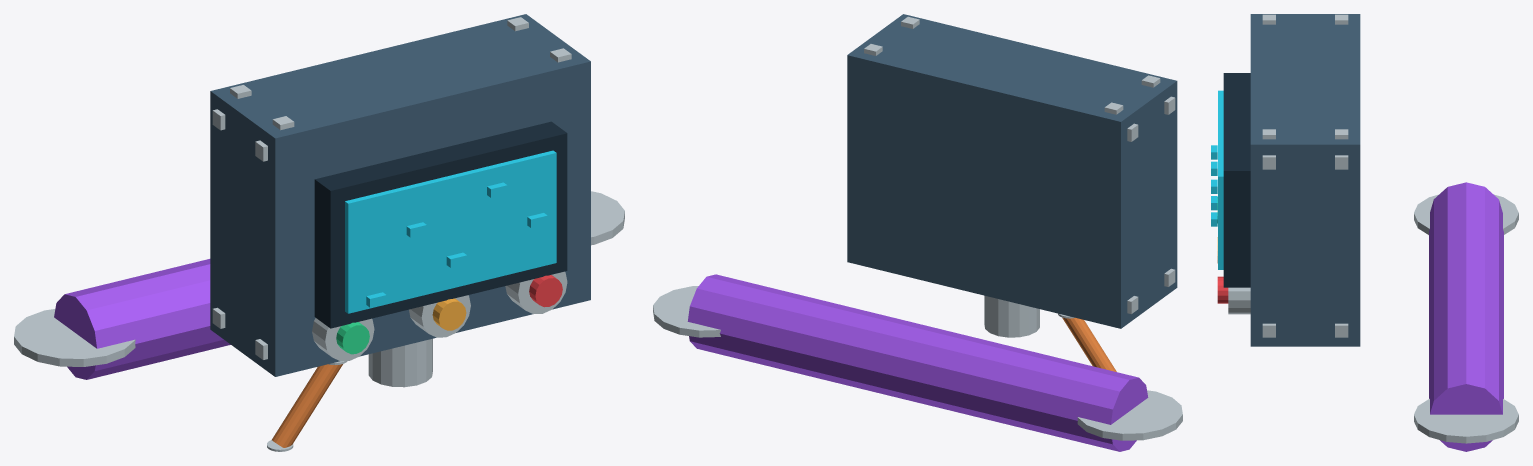
Rendered from 36_L77_BarrierFluidFlowSensor.fbx.
3 renders of one model, left to right at view 1: azimuth 30°, elevation 25°; view 2: azimuth 150°, elevation 25°; view 3: azimuth 270°, elevation 25°, orthographic. The views are drawn at different scales.
Parts seen in each view (by area): view 1: BarrierFluidFlowSensor; view 2: BarrierFluidFlowSensor; view 3: BarrierFluidFlowSensor.
Boxes of the visible parts, <box> form: BarrierFluidFlowSensor: <box>14,14,624,451</box>; BarrierFluidFlowSensor: <box>653,14,1182,451</box>; BarrierFluidFlowSensor: <box>1211,14,1518,451</box>.
Bounding box in the file's own units: 109 × 61.09 × 57.42.
